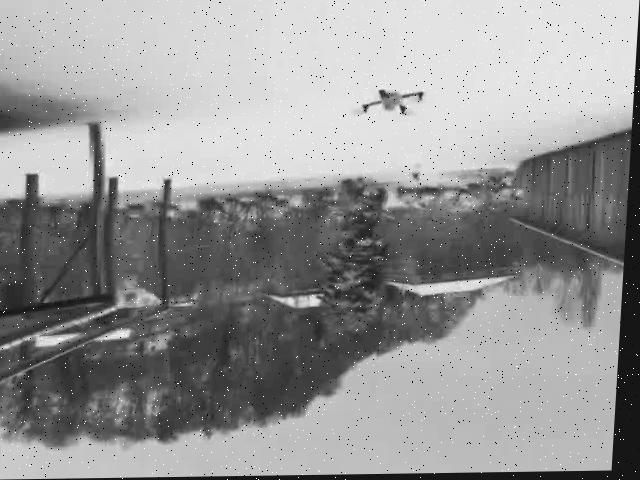drone: (344, 80, 438, 132)
